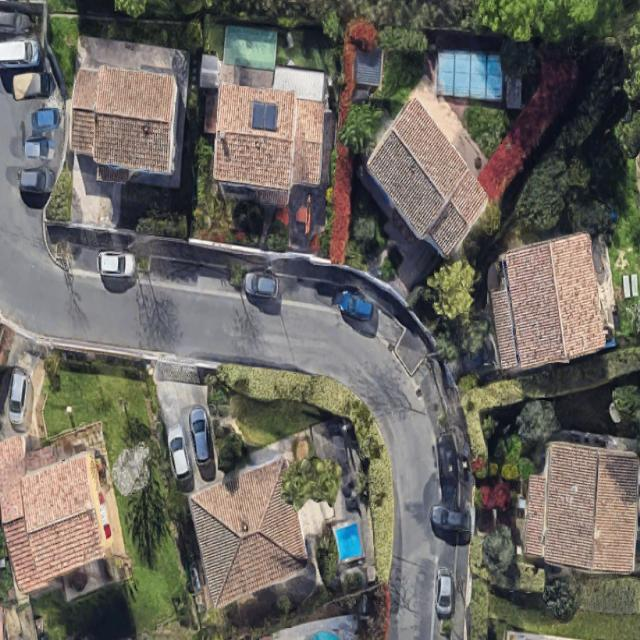maison: (347, 96, 505, 265), (0, 422, 120, 596), (182, 458, 314, 608), (483, 232, 608, 372), (520, 440, 640, 577), (211, 82, 326, 207), (68, 64, 178, 185)
